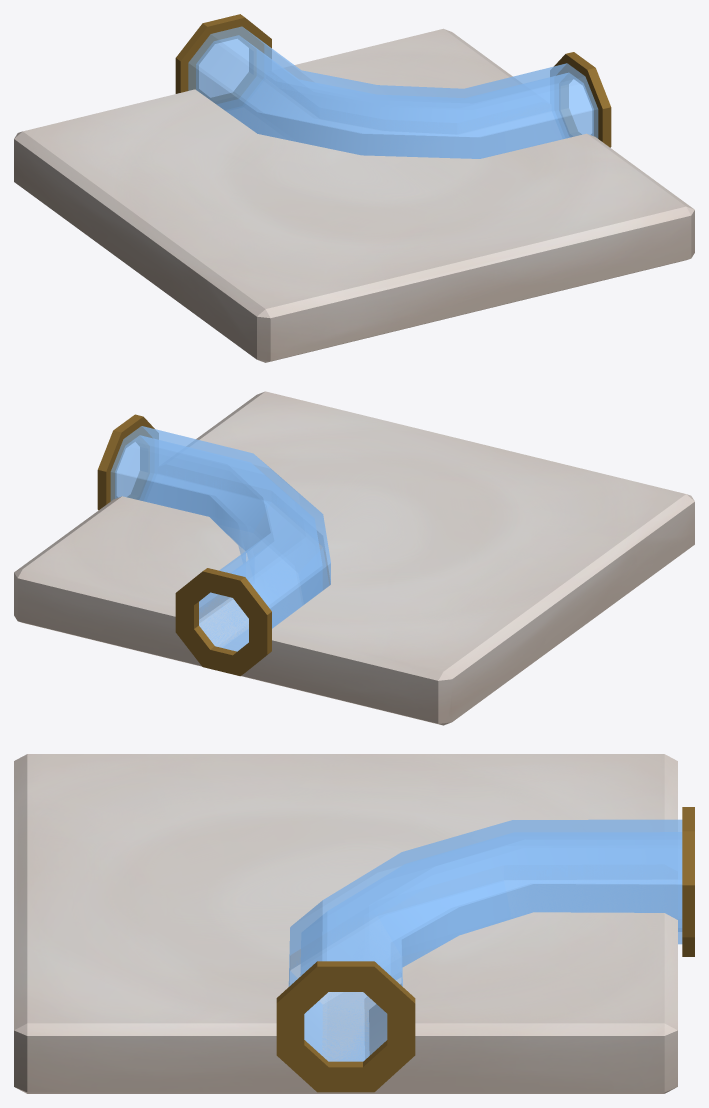
File: bent_piece.fbx
3 views of the same model, one above another, from view 1: azimuth 30°, elevation 25°; view 2: azimuth 150°, elevation 25°; view 3: azimuth 270°, elevation 25° (orthographic). The views are drawn at different scales.
Parts seen in each view (by area): view 1: puzzle_piece_bent_base, bent_pipe, bent_pipe_endcap2, bent_pipe_endcap1; view 2: puzzle_piece_bent_base, bent_pipe, bent_pipe_endcap2, bent_pipe_endcap1; view 3: puzzle_piece_bent_base, bent_pipe, bent_pipe_endcap1, bent_pipe_endcap2.
Part boxes in pixels (bbox=[...]): puzzle_piece_bent_base: bbox=[14, 28, 694, 362]; bent_pipe: bbox=[188, 26, 598, 158]; bent_pipe_endcap2: bbox=[175, 14, 271, 103]; bent_pipe_endcap1: bbox=[550, 52, 611, 147]; puzzle_piece_bent_base: bbox=[14, 391, 694, 725]; bent_pipe: bbox=[110, 426, 330, 651]; bent_pipe_endcap2: bbox=[175, 568, 271, 676]; bent_pipe_endcap1: bbox=[97, 414, 158, 510]; puzzle_piece_bent_base: bbox=[14, 754, 677, 1093]; bent_pipe: bbox=[288, 819, 682, 1061]; bent_pipe_endcap1: bbox=[276, 961, 415, 1092]; bent_pipe_endcap2: bbox=[682, 807, 694, 956].
Bounding box in the file's own units: 142 × 32.15 × 142.
